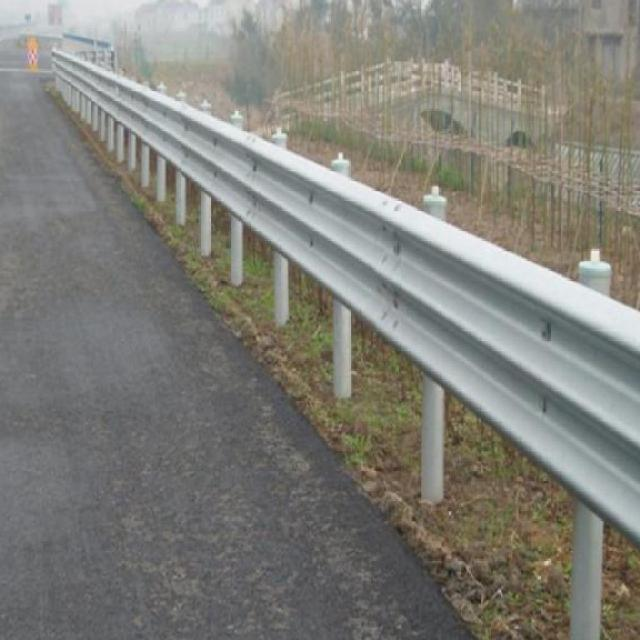Guard rail: (52, 49, 640, 545)
